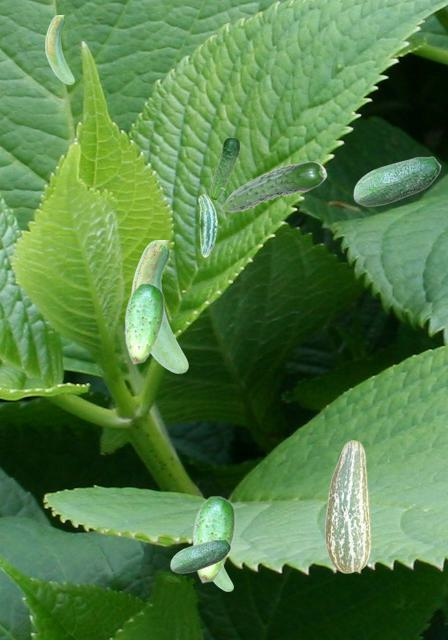cucumber: (131, 240, 187, 372), (325, 440, 370, 572), (221, 161, 326, 211), (353, 156, 440, 205), (192, 495, 234, 582), (124, 282, 163, 363), (170, 539, 230, 572), (45, 15, 73, 83), (209, 137, 239, 199), (198, 194, 216, 256), (213, 567, 232, 590)
